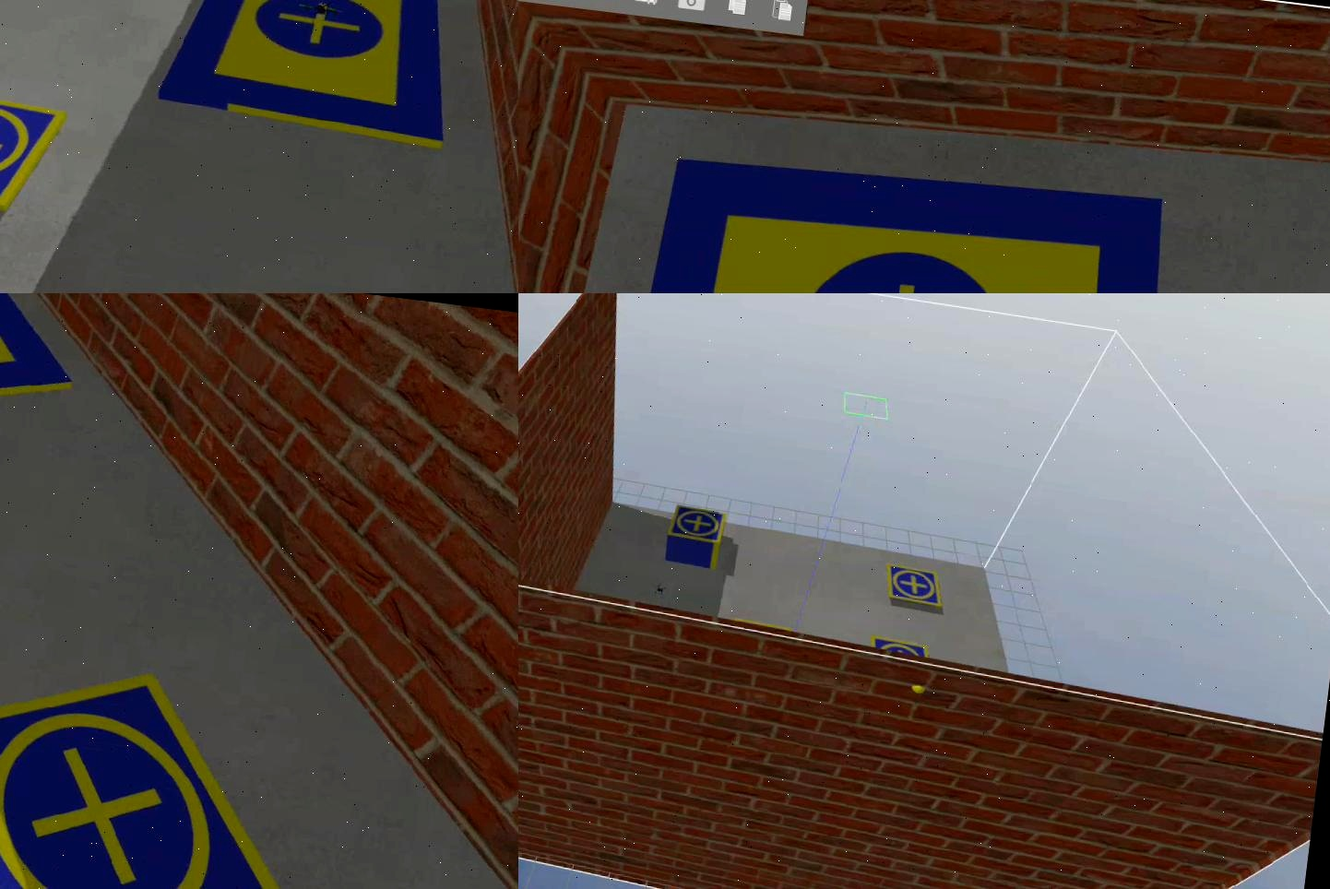large_base: (610, 136, 1193, 293), (155, 1, 463, 148), (1, 293, 91, 443)
small_base: (1, 642, 321, 889), (1, 71, 66, 220), (883, 562, 948, 612), (667, 502, 730, 547), (871, 635, 931, 660)
